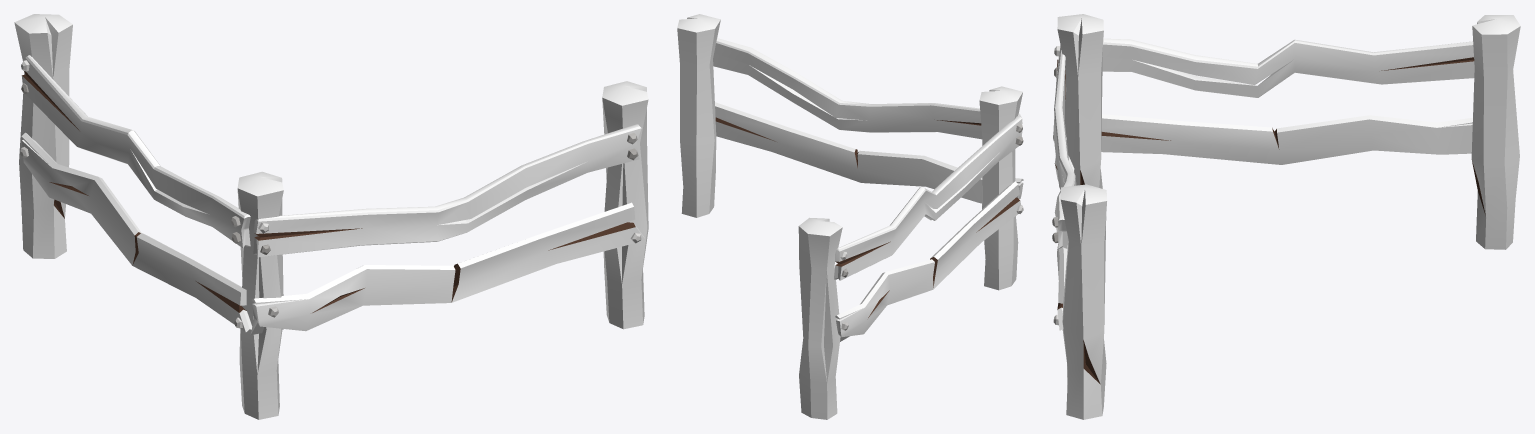
Rendered from valla1.fbx.
3 renders of one model, left to right at view 1: azimuth 30°, elevation 25°; view 2: azimuth 150°, elevation 25°; view 3: azimuth 270°, elevation 25°, orthographic. The views are drawn at different scales.
Parts seen in each view (by area): view 1: VallaCurvaLarga; view 2: VallaCurvaLarga; view 3: VallaCurvaLarga.
Boxes of the visible parts, x1,y1,x2,y2 form: VallaCurvaLarga: (14,14,648,419); VallaCurvaLarga: (677,14,1023,419); VallaCurvaLarga: (1052,14,1520,419).
Bounding box in the file's own units: 1140 × 611 × 1165.
